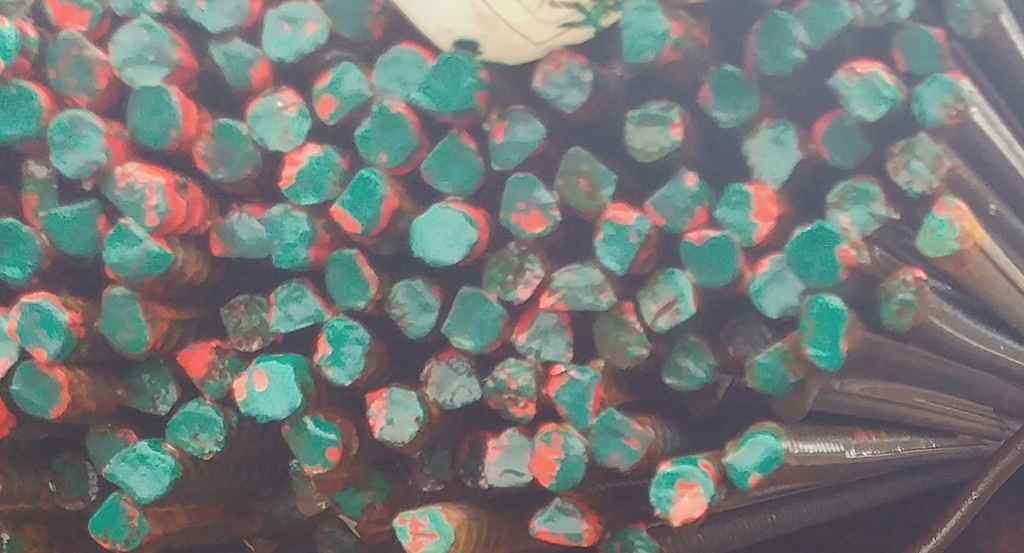dipstick: (95, 160, 179, 234), (108, 13, 189, 89), (102, 437, 185, 505), (47, 31, 114, 111), (589, 197, 653, 280), (329, 166, 399, 241), (620, 95, 697, 163), (718, 422, 791, 493), (557, 144, 622, 223), (406, 199, 479, 269), (188, 115, 262, 184), (650, 457, 720, 529), (232, 353, 306, 421), (828, 58, 906, 122), (713, 181, 787, 248), (440, 283, 505, 358), (97, 218, 172, 283), (528, 49, 599, 117), (7, 294, 79, 360), (644, 165, 716, 231), (10, 358, 83, 423), (202, 28, 275, 93), (821, 174, 896, 236), (883, 132, 954, 197), (787, 219, 854, 287), (247, 83, 315, 150), (799, 293, 855, 374), (420, 127, 486, 195), (591, 301, 656, 370), (123, 80, 186, 151), (588, 409, 654, 476), (97, 287, 160, 357), (810, 106, 880, 169), (480, 106, 550, 169), (746, 248, 806, 321), (740, 117, 802, 187), (44, 109, 106, 179), (414, 55, 486, 115), (636, 268, 701, 334), (163, 397, 230, 461), (499, 171, 563, 238), (355, 99, 419, 166), (418, 348, 486, 411), (613, 1, 675, 70), (276, 142, 346, 203), (310, 55, 371, 125), (261, 1, 332, 61), (87, 489, 153, 553), (697, 63, 763, 127), (528, 494, 603, 550), (906, 71, 979, 128), (280, 413, 348, 474), (261, 204, 322, 272), (315, 315, 372, 387), (363, 383, 426, 448), (481, 240, 547, 302), (913, 195, 975, 260), (38, 195, 104, 256), (383, 274, 441, 342), (531, 423, 587, 493), (368, 39, 431, 101), (486, 354, 541, 425), (889, 19, 956, 77), (114, 360, 179, 419), (748, 9, 805, 76), (544, 364, 604, 427), (678, 229, 744, 286), (267, 279, 332, 336), (206, 203, 269, 261), (325, 246, 379, 313), (540, 263, 617, 309), (512, 303, 574, 360), (715, 308, 777, 363), (46, 451, 97, 513), (661, 335, 719, 389), (218, 291, 267, 354), (746, 340, 798, 399), (393, 505, 456, 553), (14, 161, 62, 224), (790, 1, 856, 46), (281, 459, 332, 517), (485, 427, 534, 487), (1, 215, 42, 285), (1, 78, 42, 146), (85, 420, 142, 468), (878, 267, 920, 332), (177, 1, 260, 33), (177, 339, 229, 389), (1, 17, 40, 76), (942, 1, 1005, 36), (42, 2, 108, 34), (454, 429, 486, 488), (308, 517, 359, 553), (605, 522, 660, 553)
